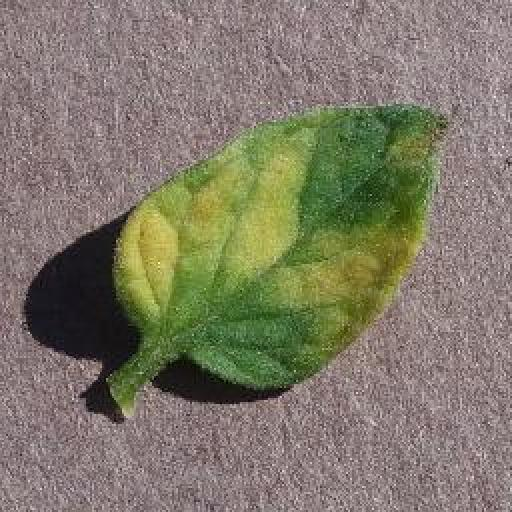disease_tomato: (113, 98, 440, 394)
